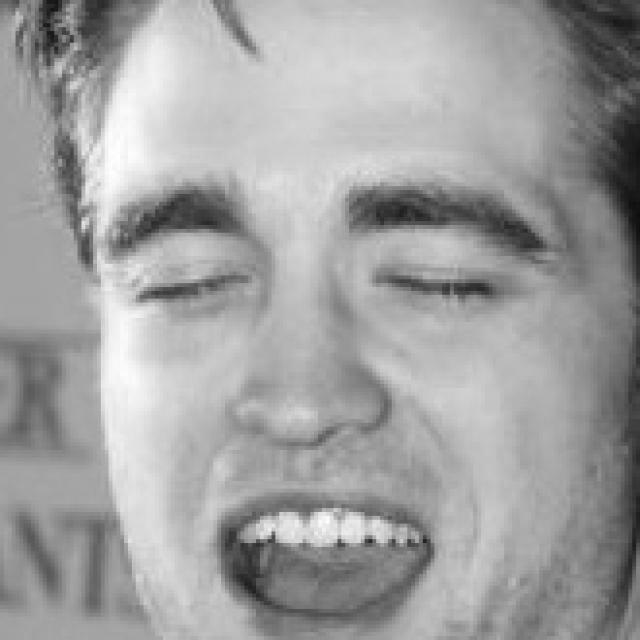real: (102, 36, 608, 640), (142, 190, 516, 332)
